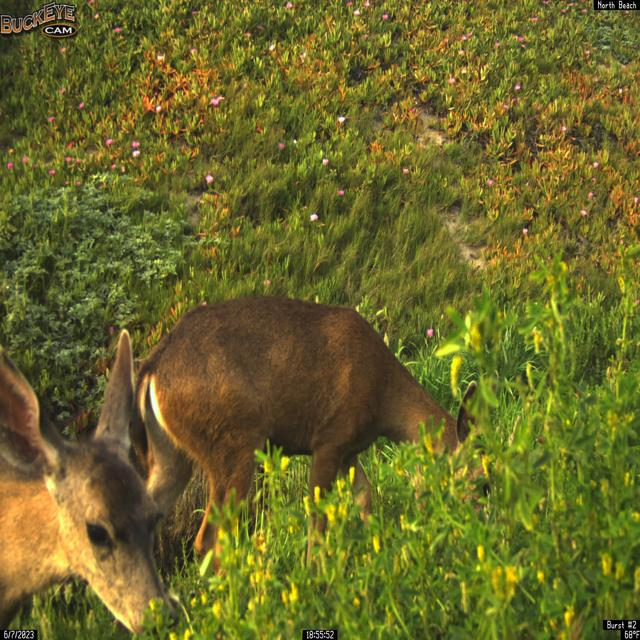deer: (0, 325, 179, 638)
